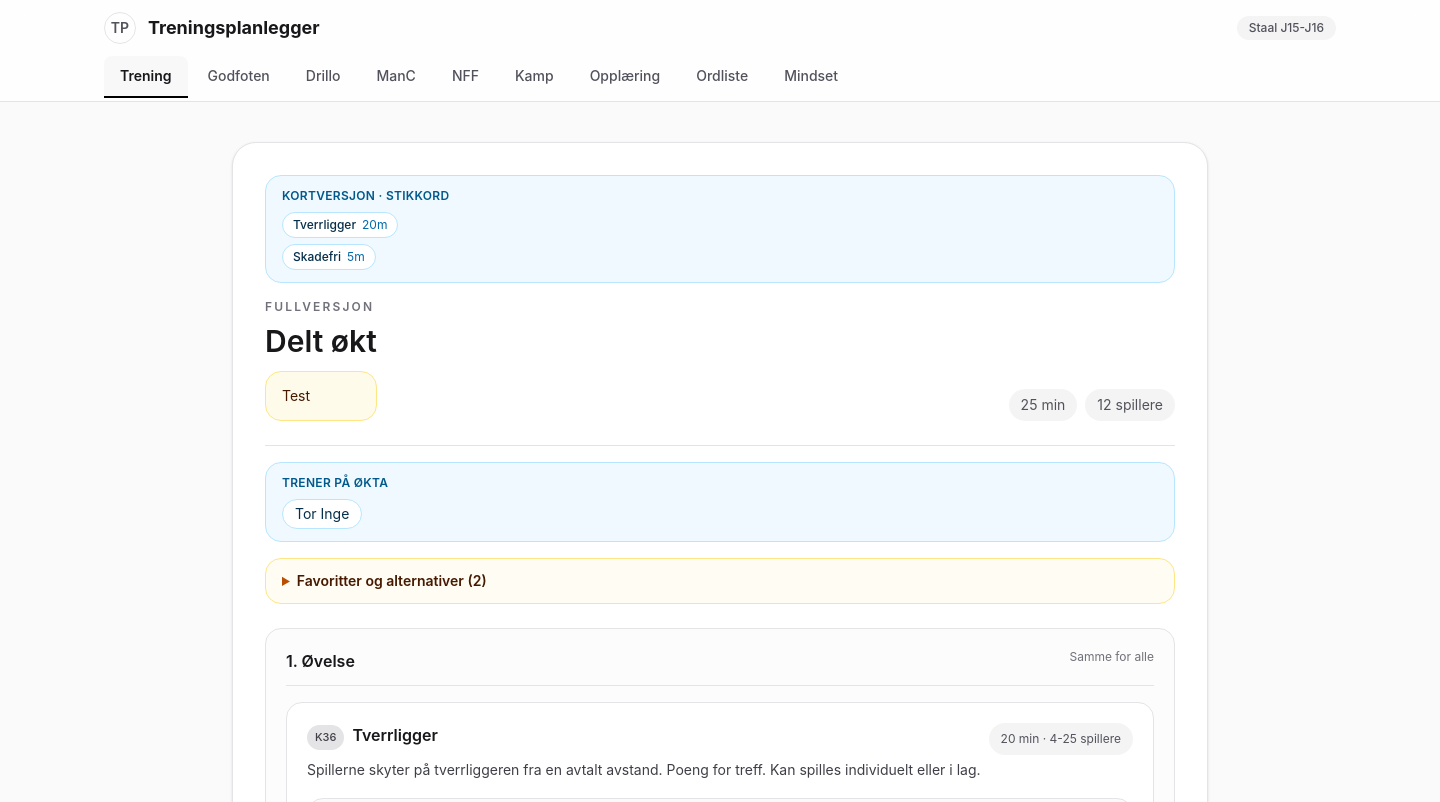
SharedSessionPage › shows favorite alternatives in the full session view
The width and height of the screenshot is (1440, 802).
Check: the text "Guus Hiddink Movement and combination play" is not shown
Click the heading "Favoritter og alternativer (2)" at (392, 580), box [297,572,487,589]
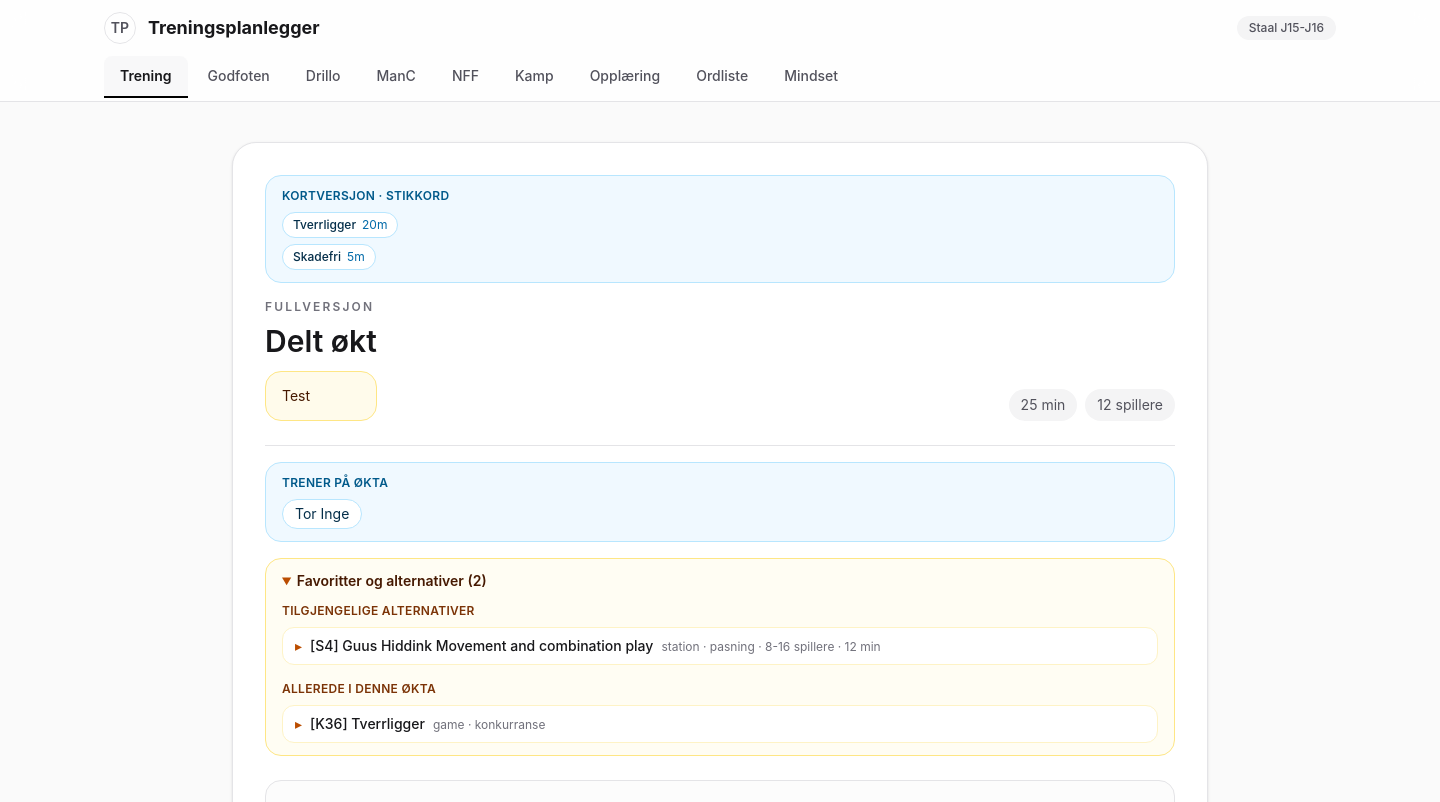
Check: the text "Tilgjengelige alternativer" is shown, box [282,603,475,618]
Check: the text "[S4] Guus Hiddink Movement and combination play" is shown, box [310,636,653,656]
